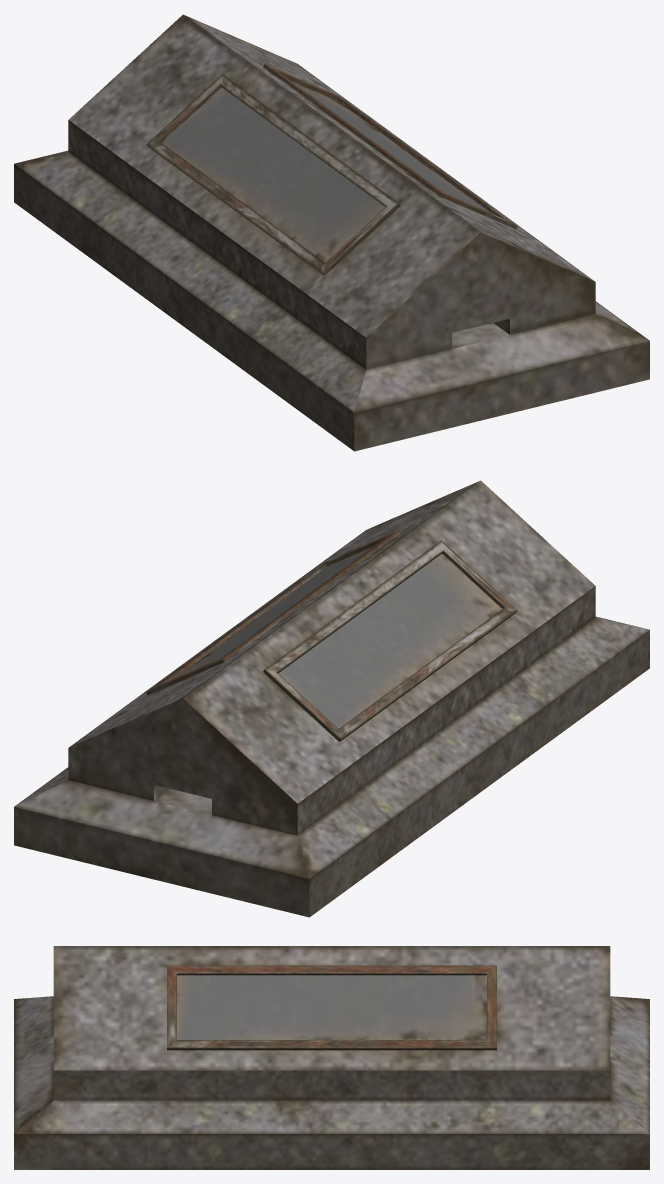
File: tomb.glb
3 renders of one model, top to bottom at view 1: azimuth 30°, elevation 25°; view 2: azimuth 150°, elevation 25°; view 3: azimuth 270°, elevation 25°, orthographic. The views are drawn at different scales.
Parts seen in each view (by area): view 1: tomb; view 2: tomb; view 3: tomb.
Boxes of the visible parts, bbox=[...] form: tomb: bbox=[14, 14, 649, 451]; tomb: bbox=[14, 480, 649, 917]; tomb: bbox=[14, 946, 649, 1169].
Size of the model in its own units: 122 by 66.15 by 244.
1 material, 1 textured.
